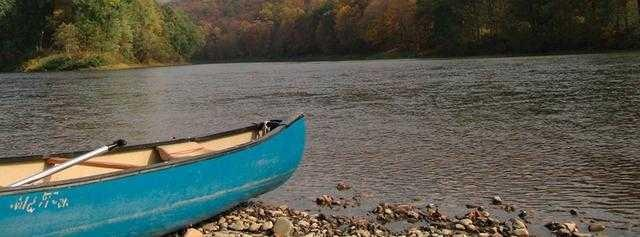kayak: (1, 113, 307, 233)
